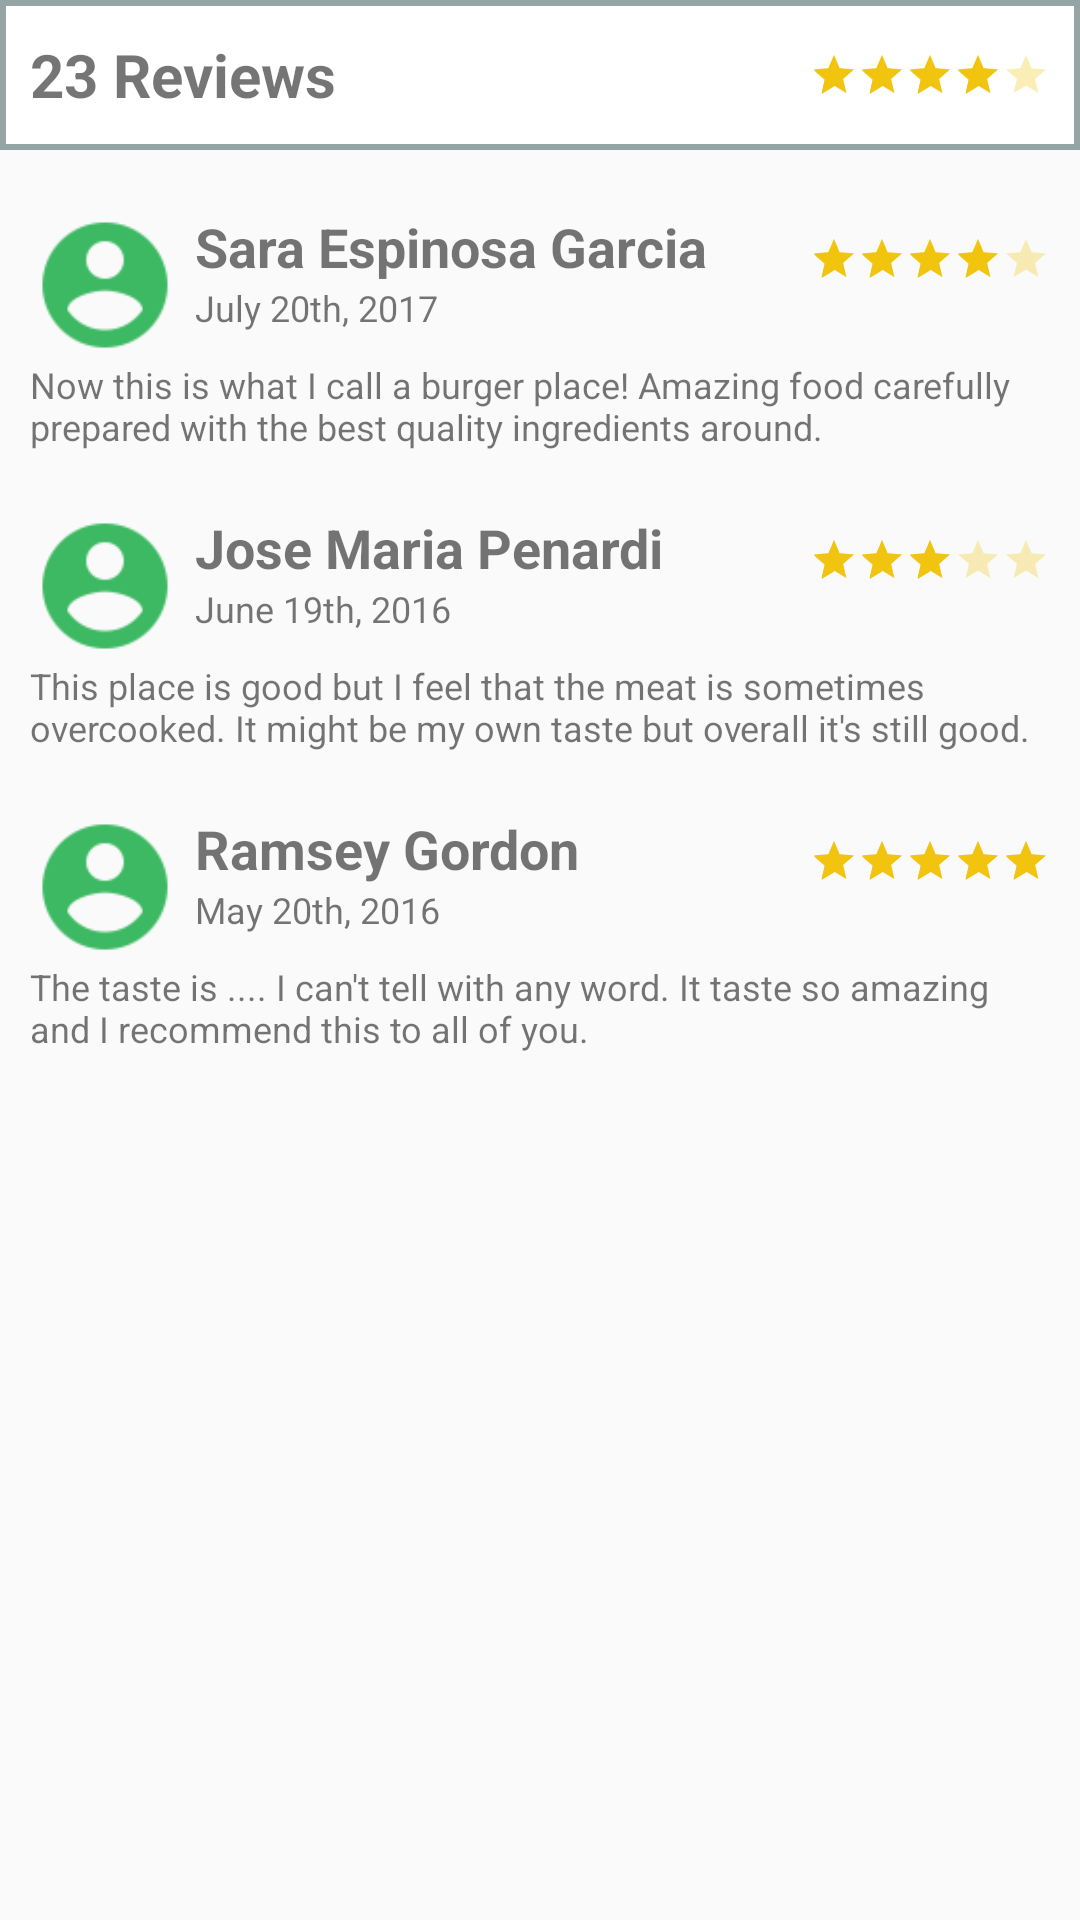

Icons on this 1080 x 1920 Android screen, each with the point to tap as [x,y]:
user: [105,285], [105,586], [105,887]
